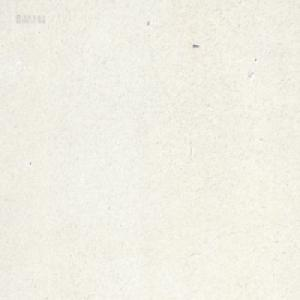Nail: (192, 42, 199, 47)
